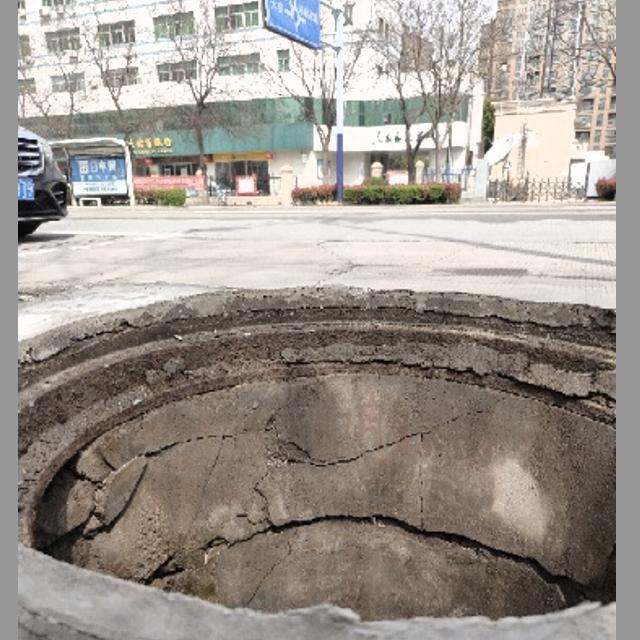lose: (21, 261, 616, 640)
